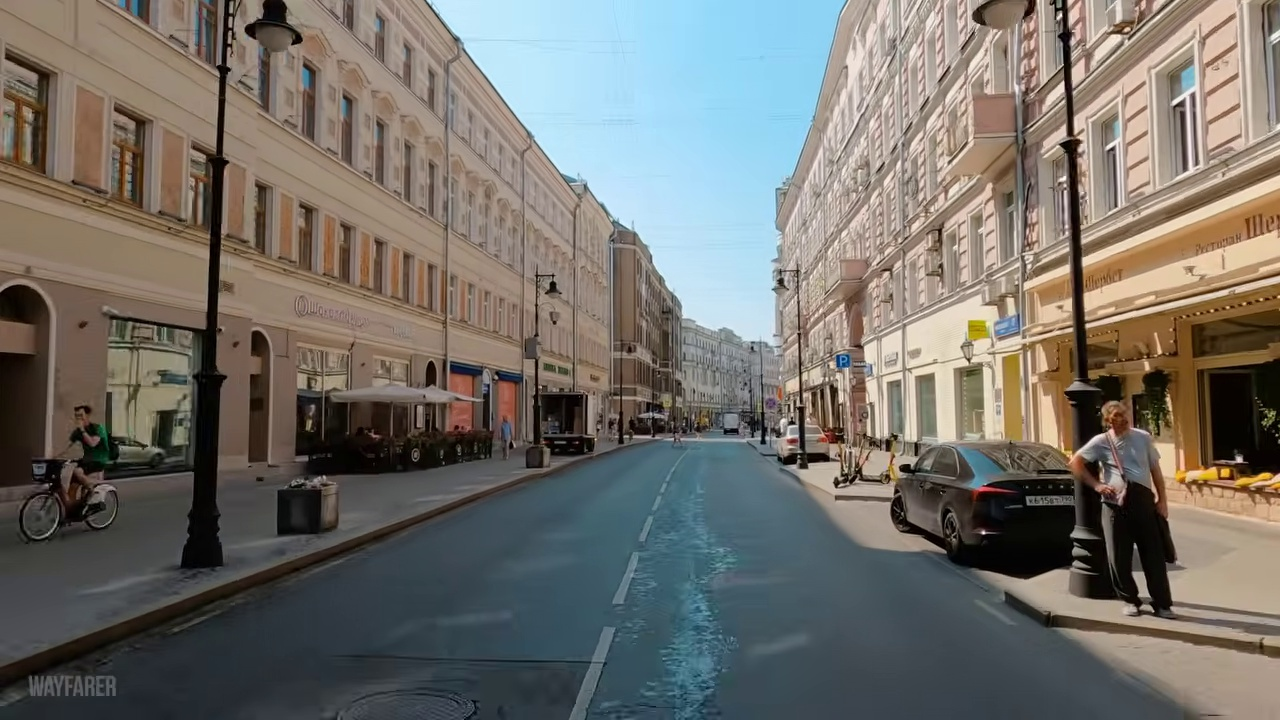apagada: (237, 8, 301, 67), (971, 2, 1031, 33)
